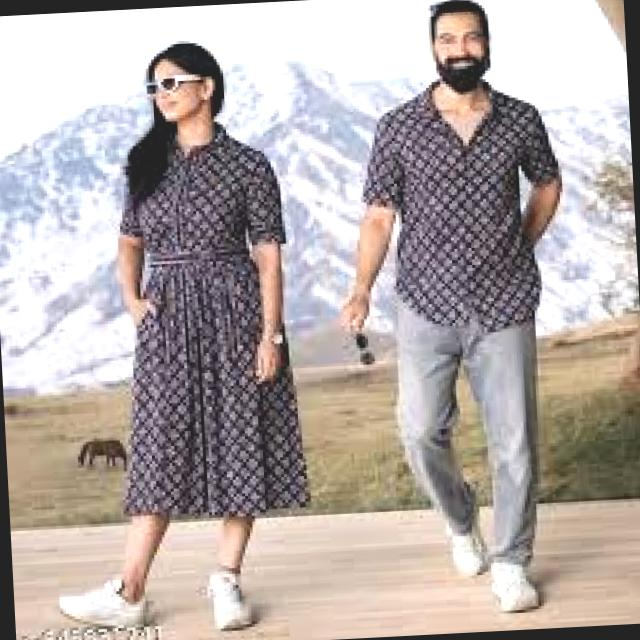dress: (121, 125, 308, 516)
face: (432, 12, 489, 66), (153, 77, 215, 123)
foot-wear: (60, 578, 148, 628), (440, 513, 492, 580), (208, 572, 254, 631), (491, 562, 538, 613)
lower-wear: (396, 304, 538, 564)
top-wear: (354, 71, 568, 337)
